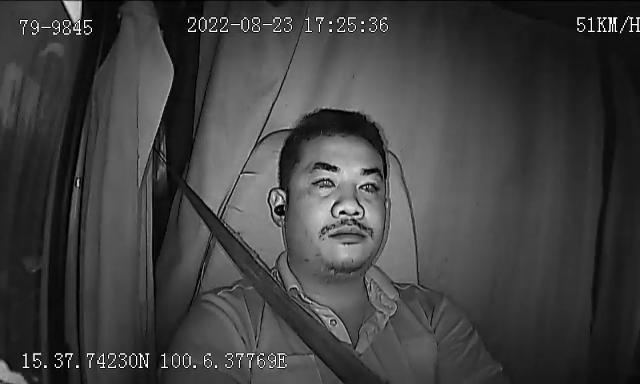SafeDriving: (353, 170, 387, 198), (308, 168, 340, 194)
Seatbelt: (178, 178, 386, 384)
